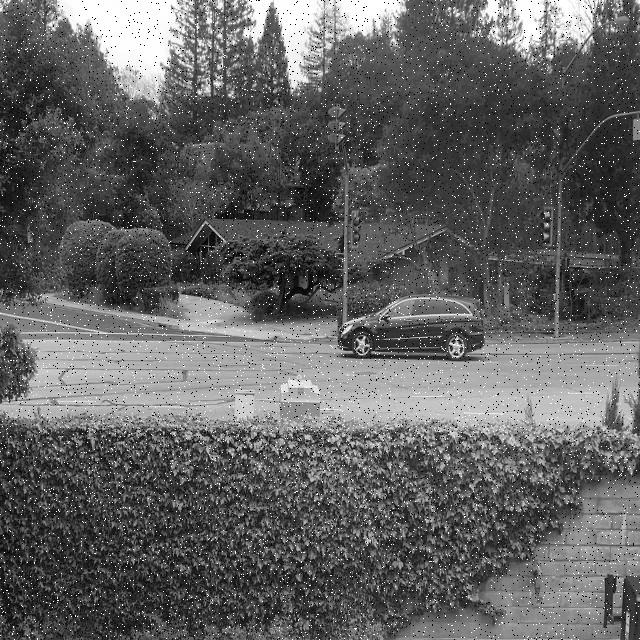Van: (338, 294, 486, 361)
